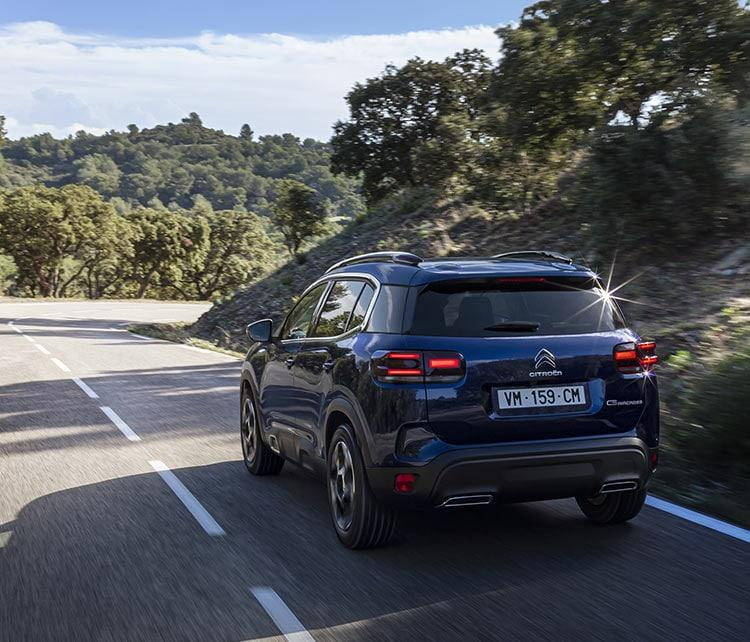car: (229, 247, 677, 563)
